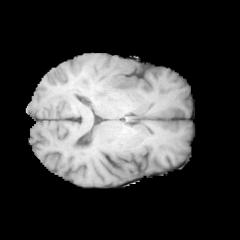glioma: (72, 58, 138, 101)
